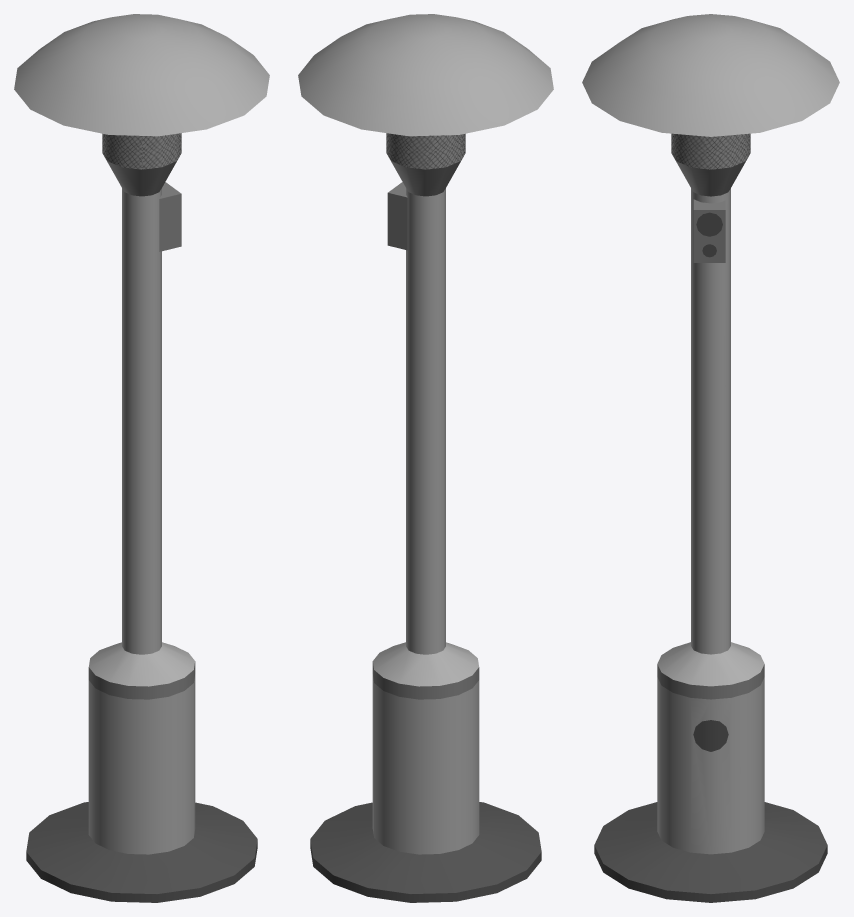
File: OutsideFloor10x10.dae
The picture shows the model from 3 angles, left to right: view 1: azimuth 30°, elevation 25°; view 2: azimuth 150°, elevation 25°; view 3: azimuth 270°, elevation 25°; orthographic projection.
Visible parts, largest first — view 1: Patio_Heater; view 2: Patio_Heater; view 3: Patio_Heater.
Boxes of the visible parts, x1,y1,x2,y2 form: Patio_Heater: [14, 14, 269, 902]; Patio_Heater: [298, 14, 553, 902]; Patio_Heater: [582, 14, 839, 902].
Size of what is drawn, in the model's own units: 0.6739 by 0.6739 by 2.37.
